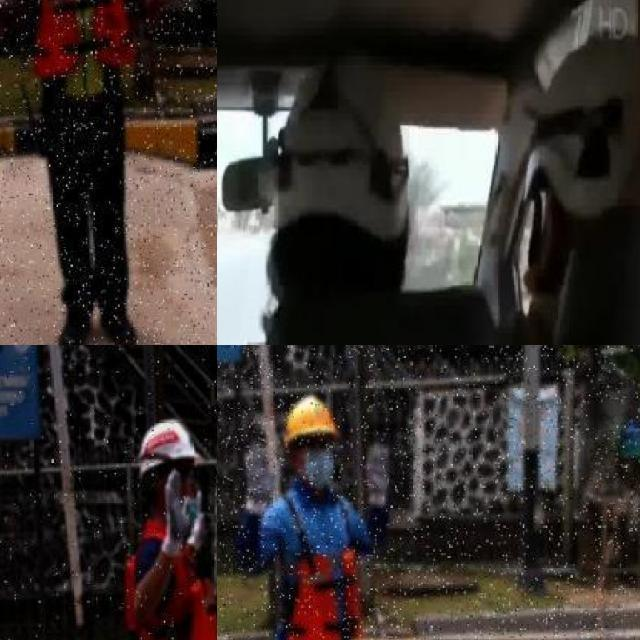apron: (241, 438, 278, 518), (162, 468, 185, 564), (362, 439, 390, 508), (192, 496, 206, 554)
